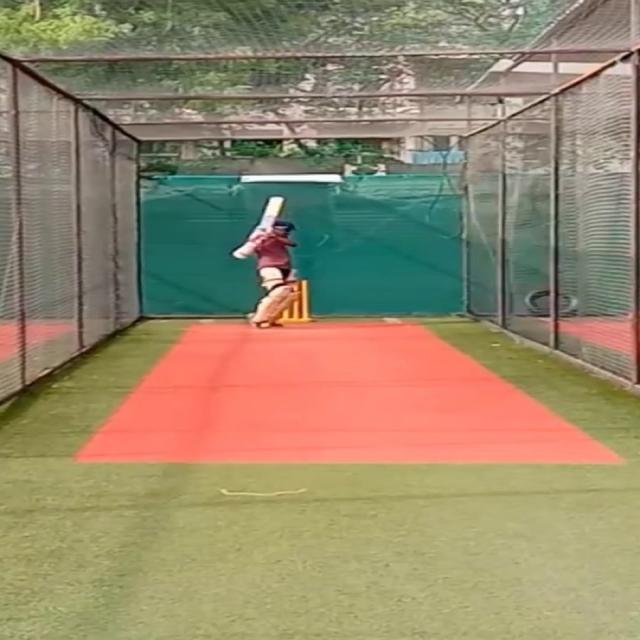stump: (291, 278, 313, 323)
